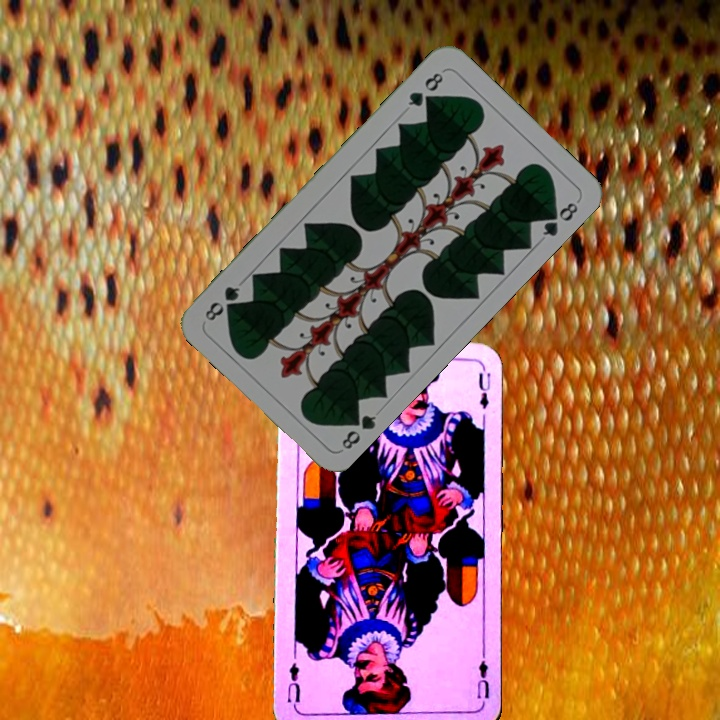EU: (466, 650, 492, 709)
G8: (337, 407, 379, 452), (403, 68, 446, 110)
